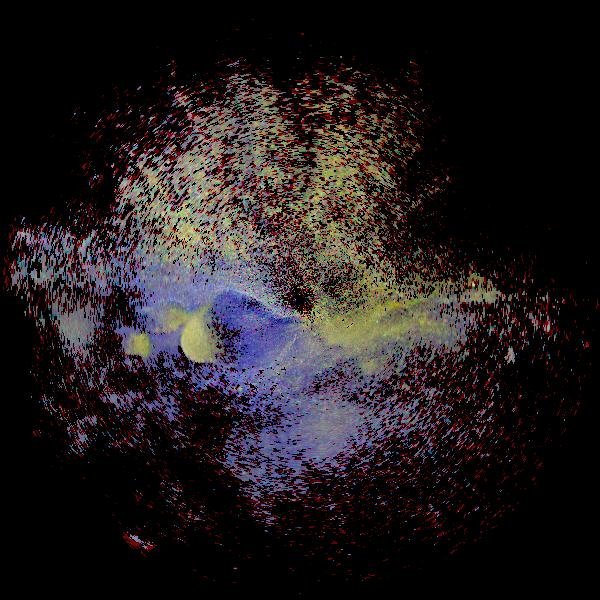roost: (94, 287, 247, 440), (45, 296, 180, 431)
